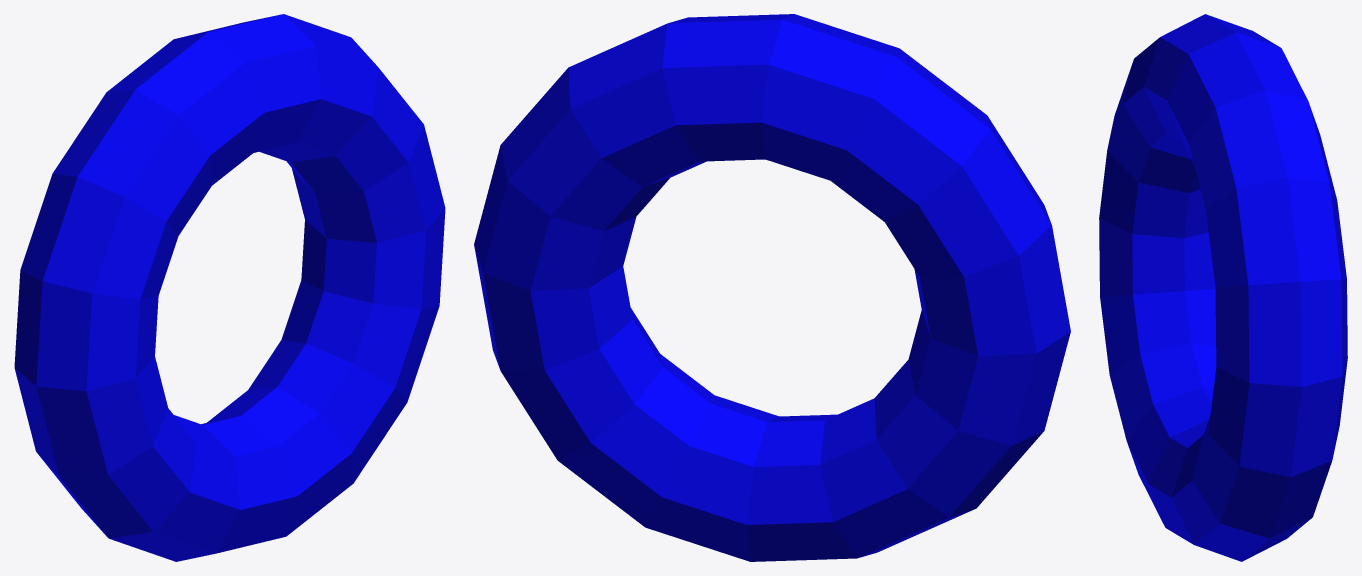
Rendered from Obj_BlueTorus.glb.
3 views of the same model, side by side, from view 1: azimuth 30°, elevation 25°; view 2: azimuth 150°, elevation 25°; view 3: azimuth 270°, elevation 25° (orthographic). The views are drawn at different scales.
Parts seen in each view (by area): view 1: Obj_BlueTorus; view 2: Obj_BlueTorus; view 3: Obj_BlueTorus.
Boxes of the visible parts, x1,y1,x2,y2 form: Obj_BlueTorus: (14,14,445,561); Obj_BlueTorus: (474,14,1070,561); Obj_BlueTorus: (1099,14,1347,561).
Bounding box in the file's own units: 0.1787 × 0.1861 × 0.0845.
